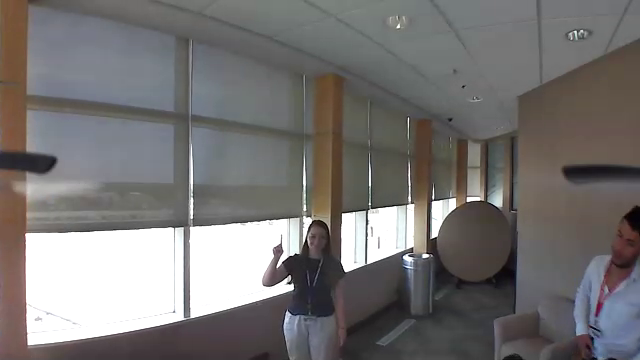up: (272, 231, 288, 254)
